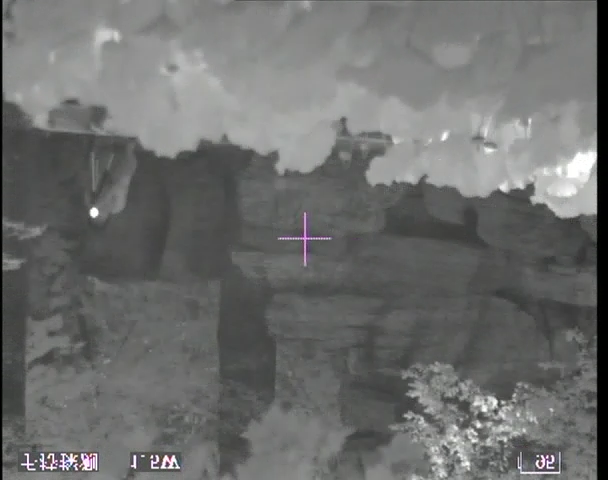my: (88, 206, 101, 220)
